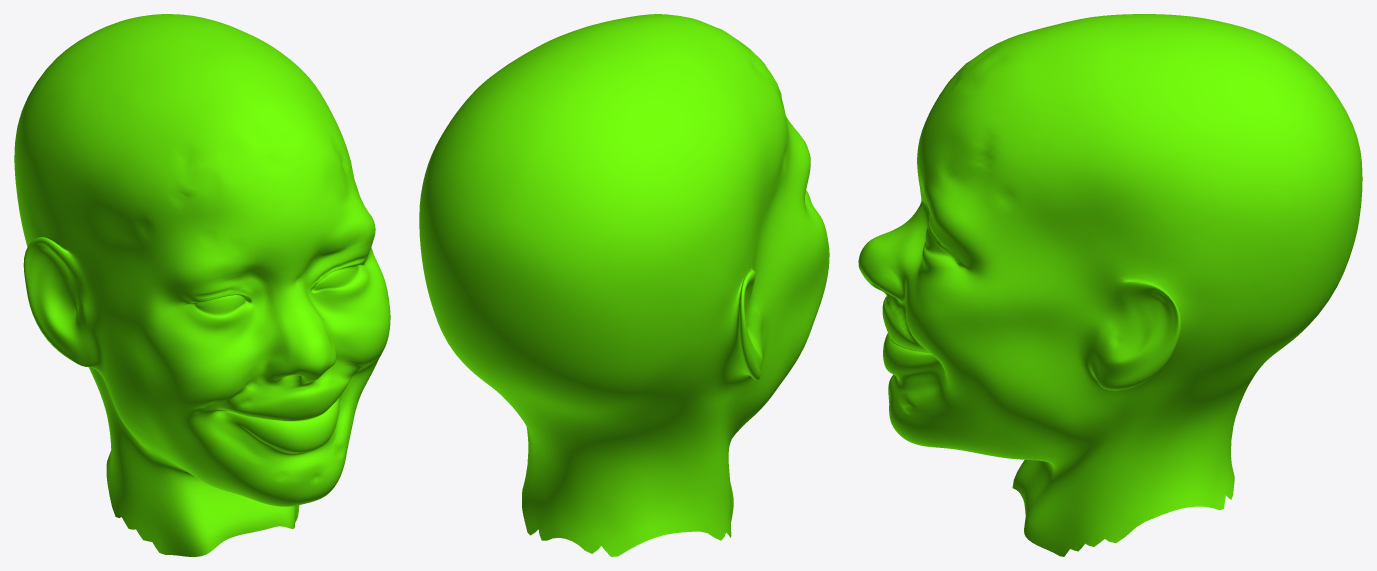
Rendered from head_green.glb.
The picture shows the model from 3 angles, left to right: view 1: azimuth 30°, elevation 25°; view 2: azimuth 150°, elevation 25°; view 3: azimuth 270°, elevation 25°; orthographic projection. The views are drawn at different scales.
Visible parts, largest first — view 1: FaceBuilderHead.002; view 2: FaceBuilderHead.002; view 3: FaceBuilderHead.002.
Boxes of the visible parts, box(x1,y1,x2,y2) form: FaceBuilderHead.002: box(14, 14, 390, 556); FaceBuilderHead.002: box(419, 14, 829, 556); FaceBuilderHead.002: box(858, 14, 1362, 556).
Bounding box in the file's own units: 1.96 × 2.91 × 2.69.
